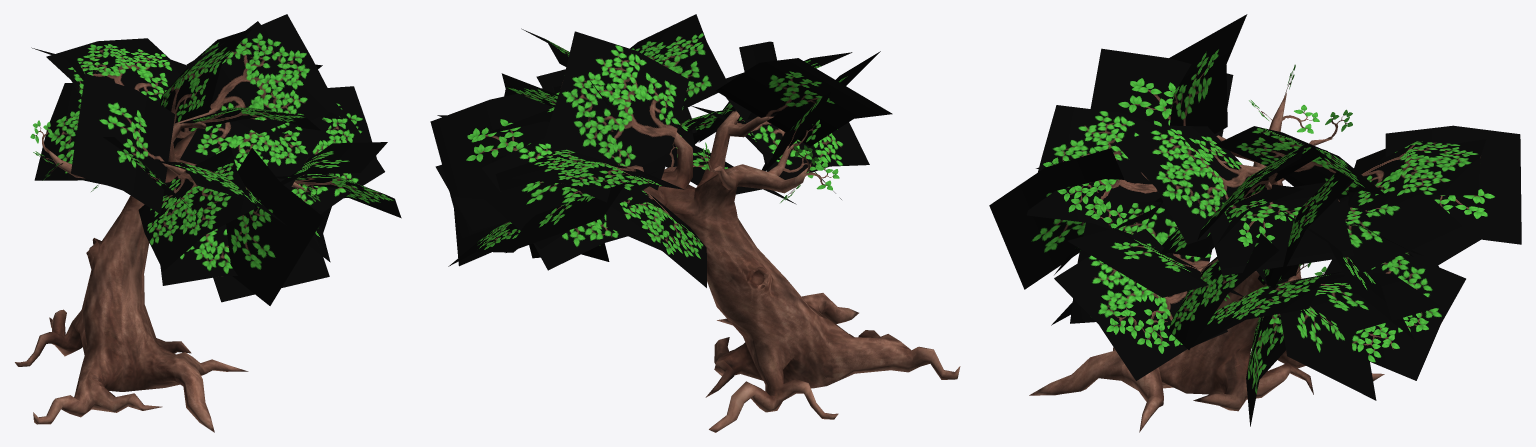
File: Tree.fbx
3 renders of one model, left to right at view 1: azimuth 30°, elevation 25°; view 2: azimuth 150°, elevation 25°; view 3: azimuth 270°, elevation 25°, orthographic. The views are drawn at different scales.
Parts seen in each view (by area): view 1: galhogrande.005; view 2: galhogrande.005; view 3: galhogrande.005.
Part boxes in pixels (bbox=[...]): galhogrande.005: bbox=[15, 14, 401, 432]; galhogrande.005: bbox=[430, 14, 960, 432]; galhogrande.005: bbox=[989, 14, 1521, 432].
Size of the model in its own units: 431 by 317 by 425.
